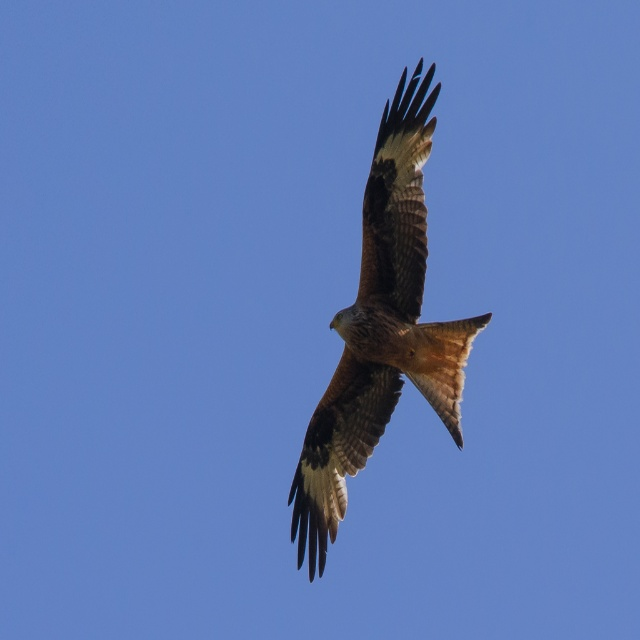Eagle: (286, 62, 493, 580)
